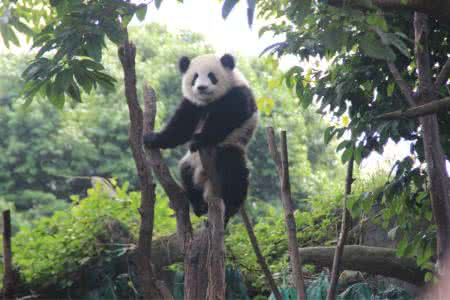panda: (141, 46, 264, 220)
